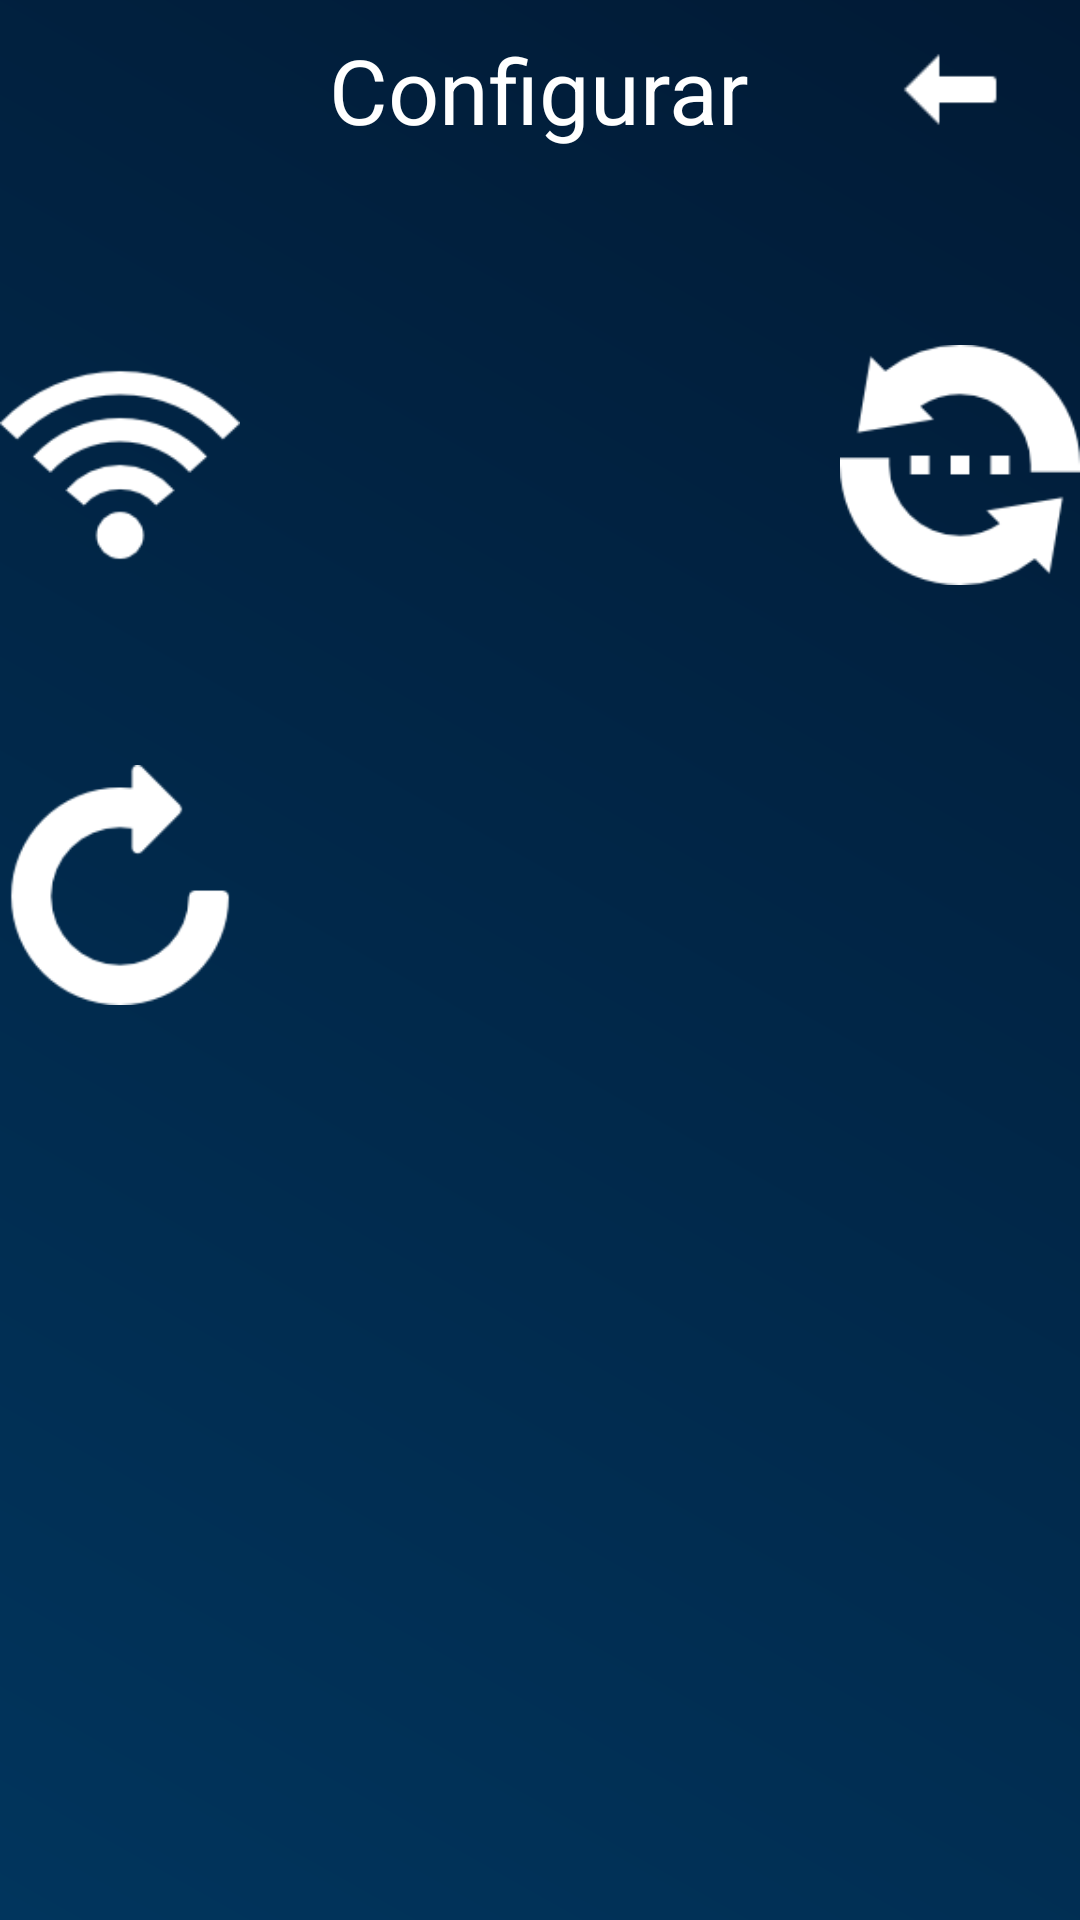

Icon bounding boxes for this 1080px×1920px phone screenshot, format (x1,y1,x2,y2):
back: (904,54,997,125)
change: (840,345,1080,585)
update: (10,765,229,1005)
wifib: (0,370,240,560)
